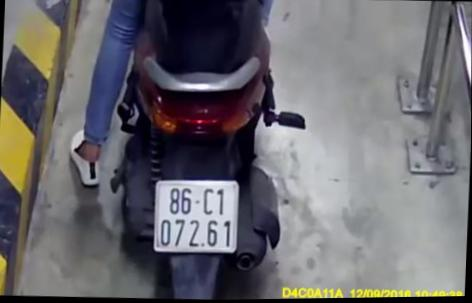LP: (152, 177, 242, 256)
